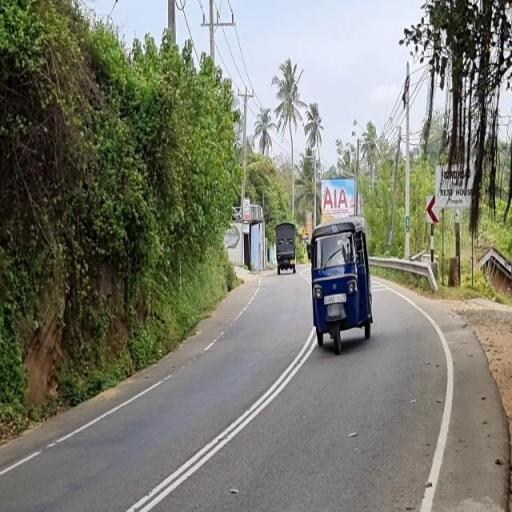double_white_line: (128, 329, 313, 512)
